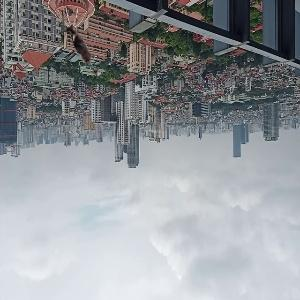drone: (44, 11, 125, 92)
